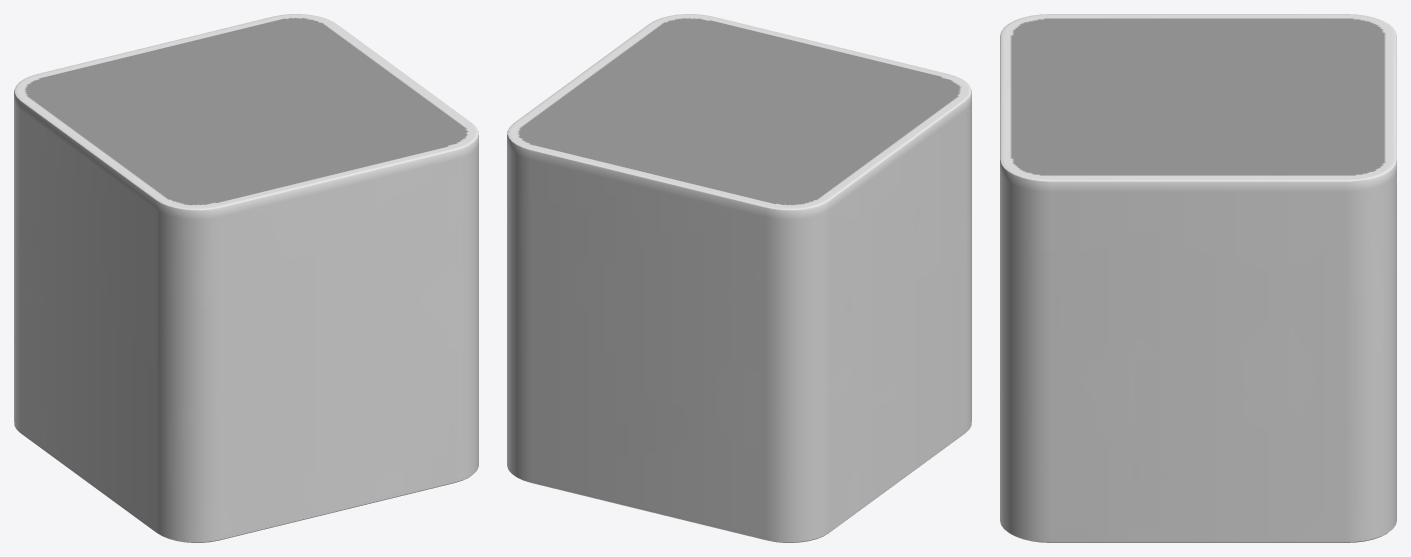
File: picket_s.dae
3 views of the same model, side by side, from view 1: azimuth 30°, elevation 25°; view 2: azimuth 150°, elevation 25°; view 3: azimuth 270°, elevation 25° (orthographic). The views are drawn at different scales.
Parts seen in each view (by area): view 1: picket_s; view 2: picket_s; view 3: picket_s.
Boxes of the visible parts, bbox=[...] form: picket_s: bbox=[14, 14, 478, 542]; picket_s: bbox=[507, 14, 971, 542]; picket_s: bbox=[1000, 14, 1396, 542].
Size of the model in its own units: 0.397 by 0.4 by 0.397.
